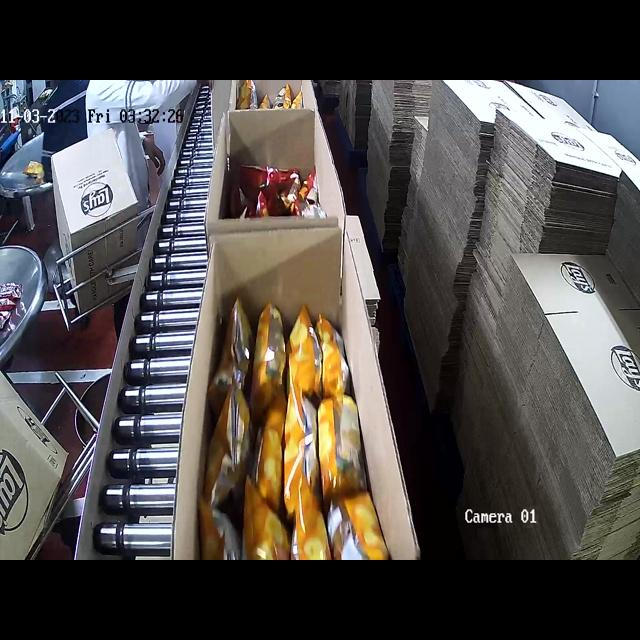cheese: (210, 298, 388, 560)
masala: (228, 131, 327, 216)
